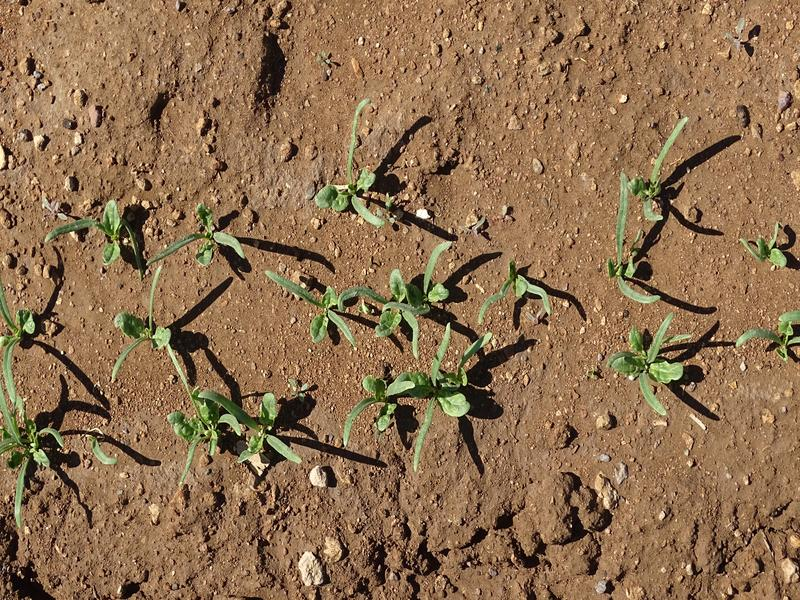Espinaca: (7, 197, 559, 523), (613, 141, 694, 412), (729, 211, 800, 356), (317, 113, 396, 223)
